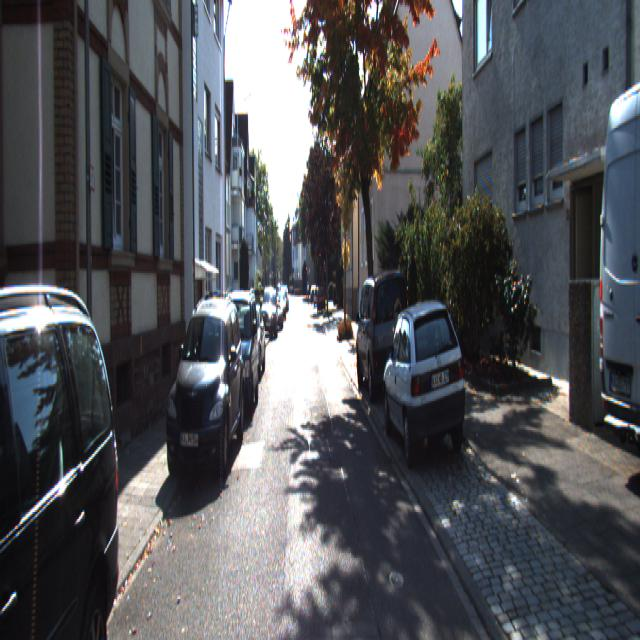Car: (0, 276, 133, 638), (590, 58, 640, 497), (162, 288, 246, 494), (381, 294, 474, 472), (352, 266, 414, 404), (214, 285, 260, 420), (230, 303, 266, 381), (260, 285, 278, 340)
